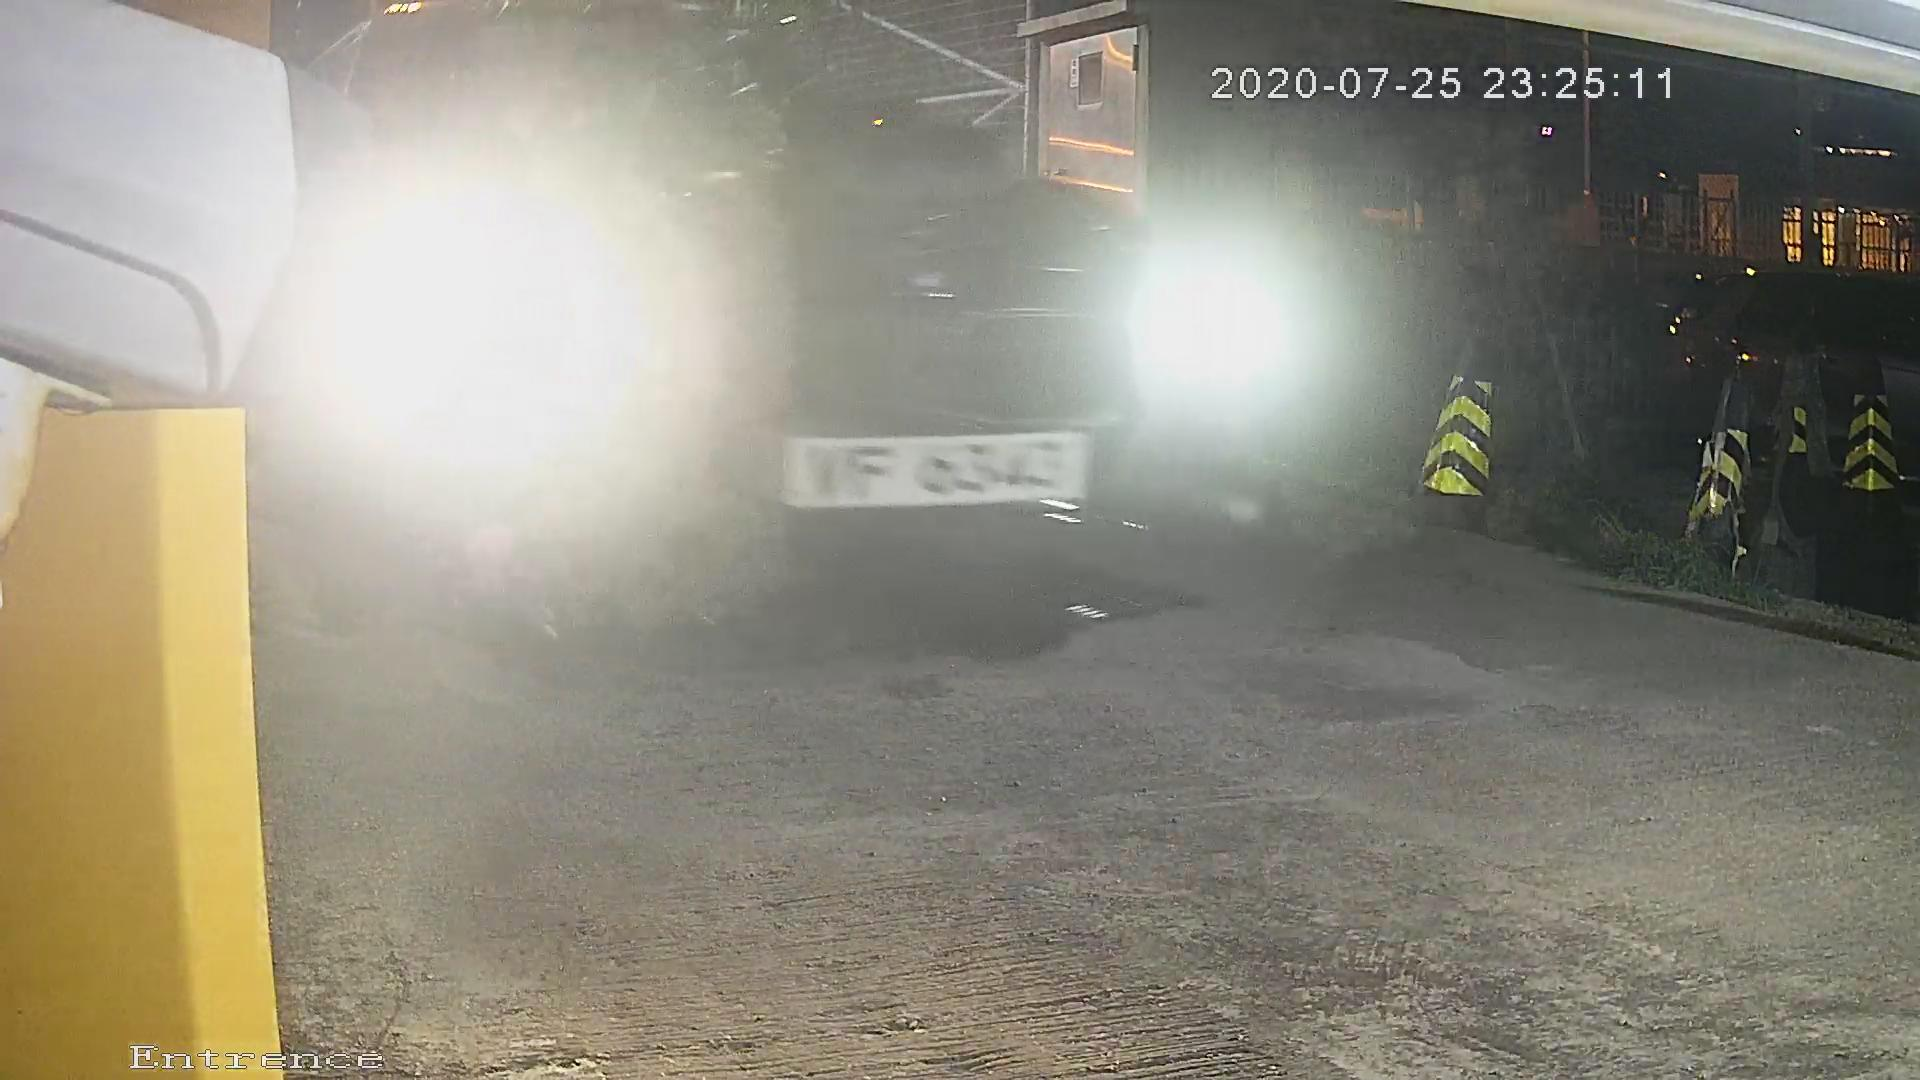Car: (138, 1, 1603, 719)
License Plate: (741, 408, 1148, 527)
